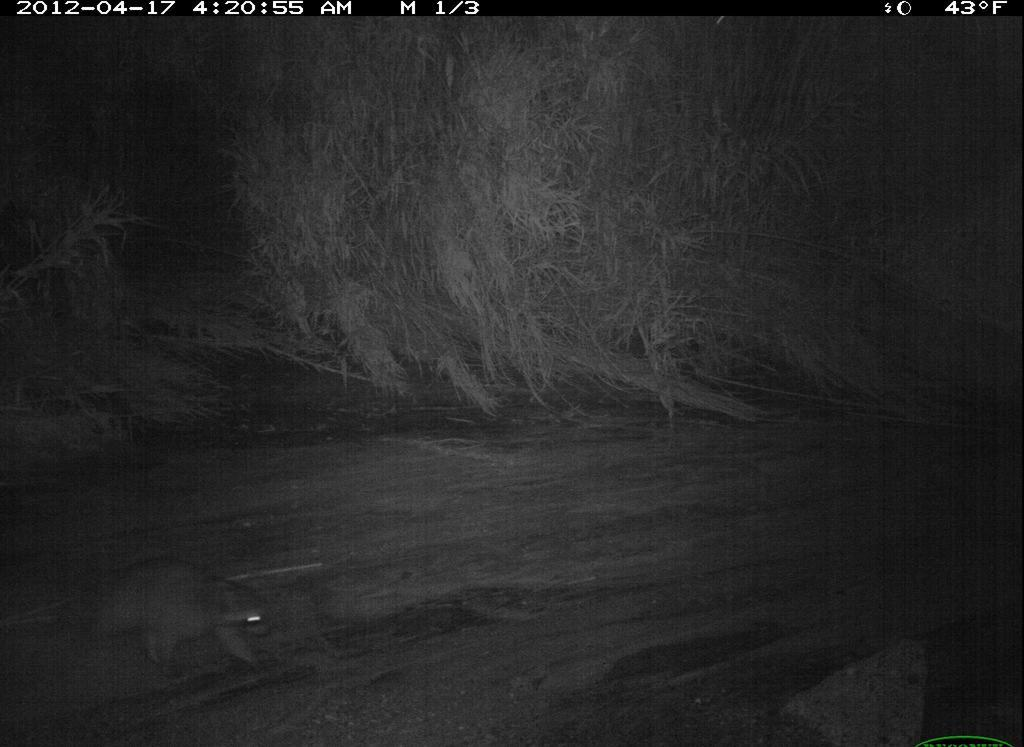raccoon: (84, 555, 281, 676)
